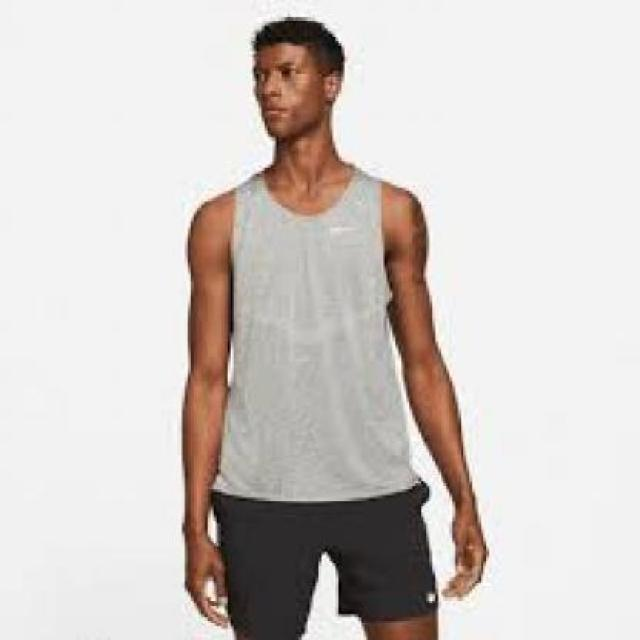no_vest: (209, 161, 422, 504)
